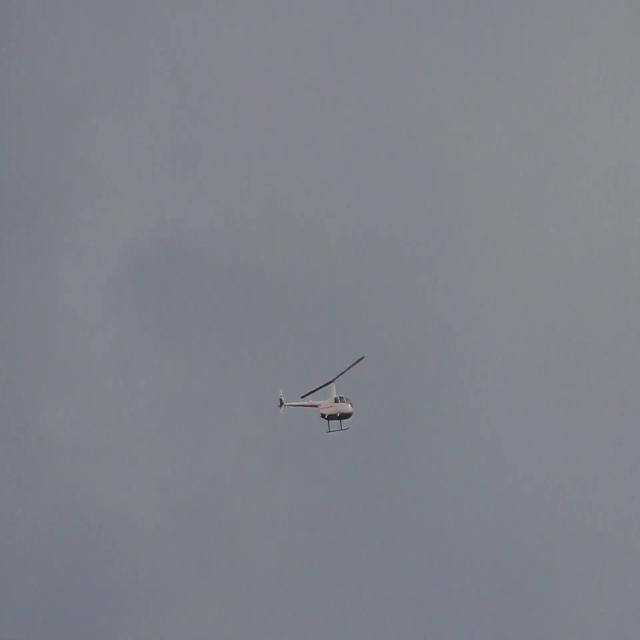CIV_HELO: (277, 381, 354, 433)
